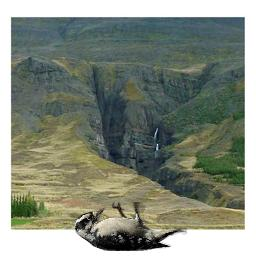Woodpecker: (75, 202, 187, 251)
